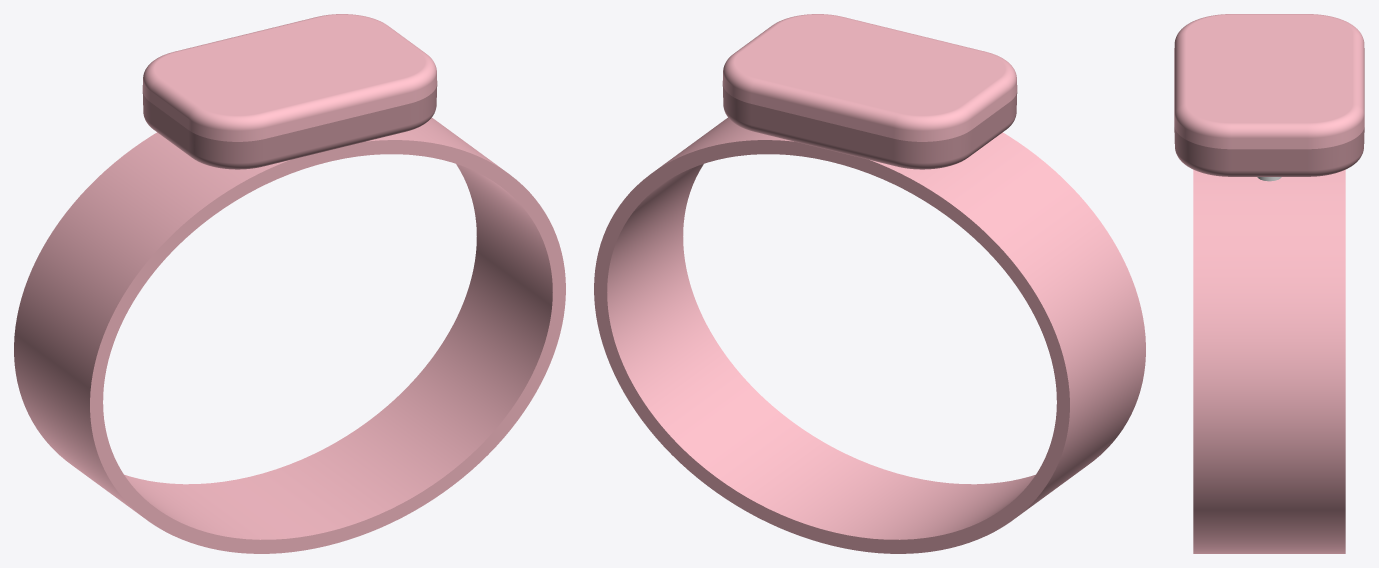
The picture shows the model from 3 angles, left to right: view 1: azimuth 30°, elevation 25°; view 2: azimuth 150°, elevation 25°; view 3: azimuth 270°, elevation 25°; orthographic projection.
Visible parts, largest first — view 1: strap.1, body.1, accent.1; view 2: strap.1, body.1, accent.1; view 3: strap.1, body.1, accent.1.
Boxes of the visible parts, bbox=[...] form: strap.1: bbox=[14, 117, 565, 553]; body.1: bbox=[142, 14, 437, 141]; accent.1: bbox=[142, 85, 437, 169]; strap.1: bbox=[594, 117, 1145, 553]; body.1: bbox=[722, 14, 1017, 141]; accent.1: bbox=[722, 85, 1017, 169]; strap.1: bbox=[1193, 169, 1345, 553]; body.1: bbox=[1174, 14, 1364, 149]; accent.1: bbox=[1174, 127, 1364, 176].
Size of the model in its own units: 0.0868 by 0.0788 by 0.03.
